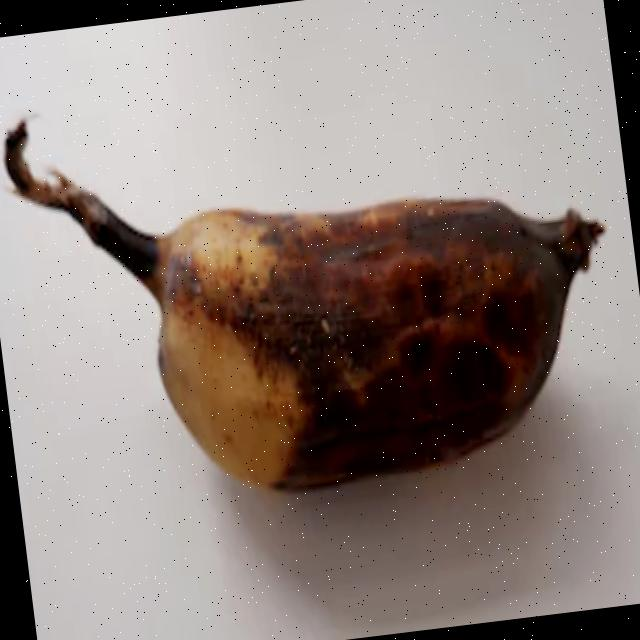rotten banana: (8, 106, 638, 624)
